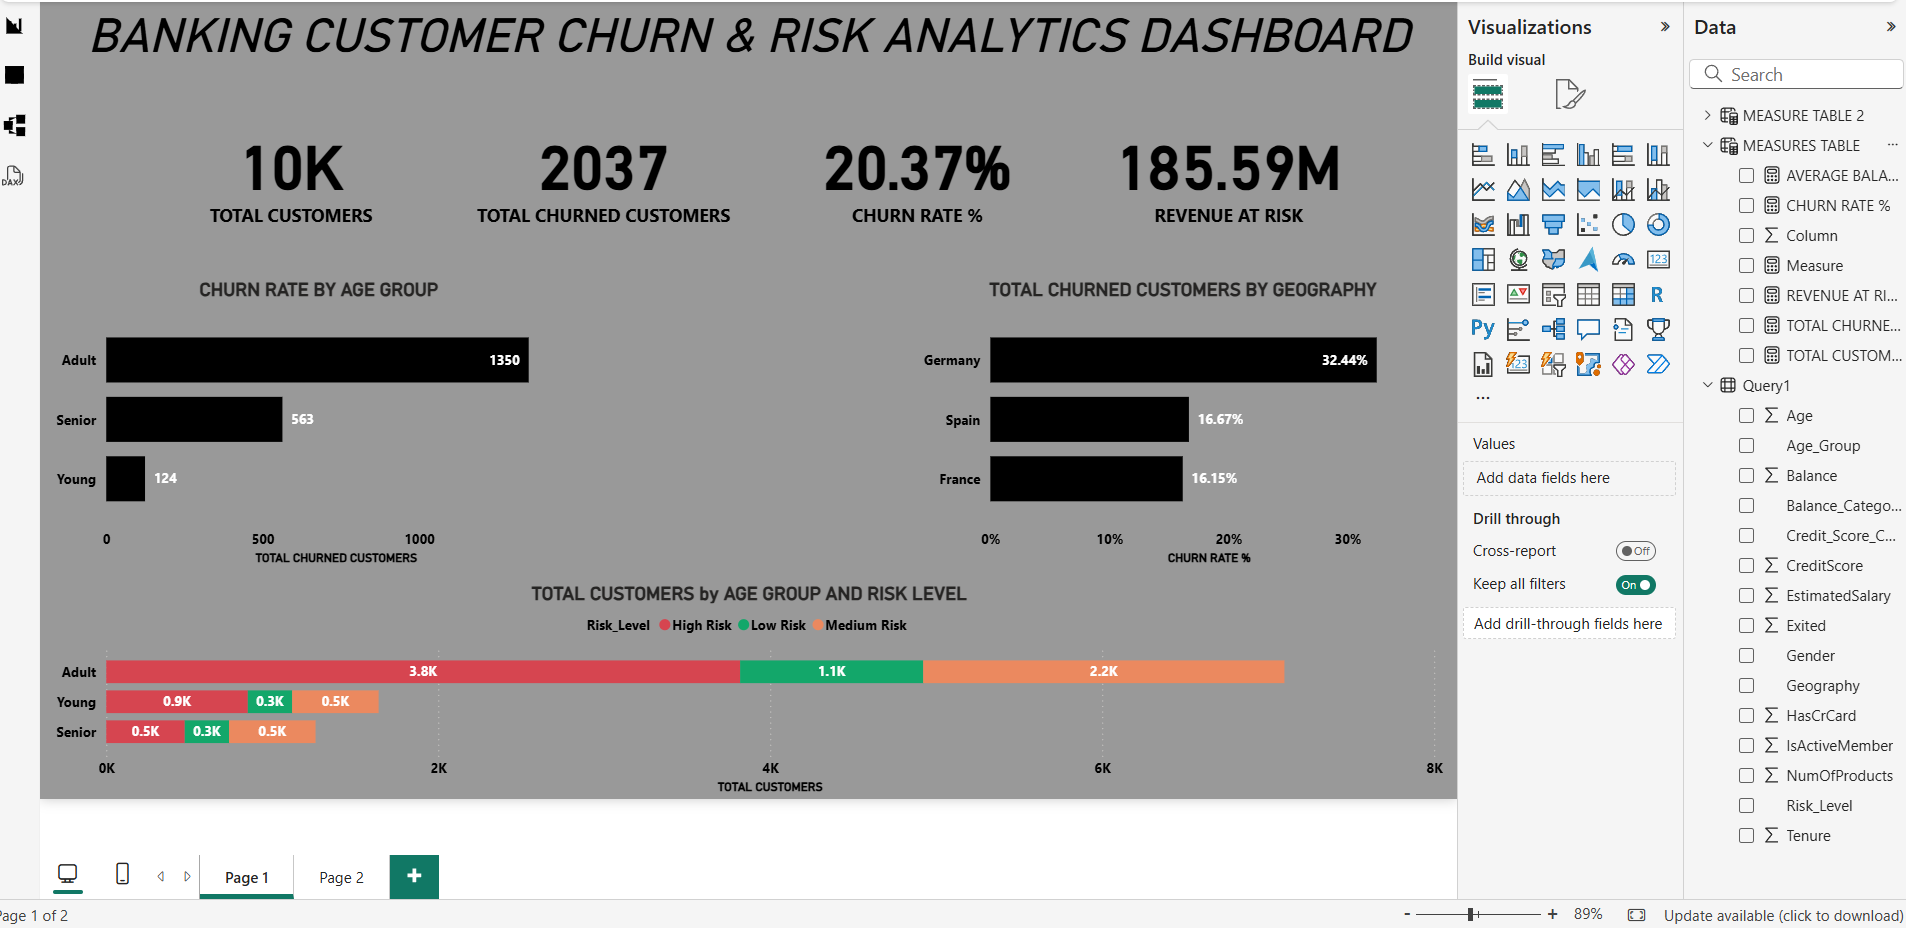

What the dashboard file says about the page in this screenshot:
{"tool":"powerbi","page":{"name":"Page 1","canvas":[1280,720],"ordinal":0},"visuals":[{"type":"textbox","box":[0,0,1280.5,58.7],"z":0},{"type":"card","fields":{"Values":["MEASURES TABLE.TOTAL CUSTOMERS"]},"box":[96,58.7,262,190.8],"z":1000},{"type":"card","fields":{"Values":["MEASURES TABLE.TOTAL CHURNED CUSTOMERS"]},"box":[378.3,58.7,262,190.8],"z":2000},{"type":"card","title":"PERCENTAGE OF CHURN","fields":{"Values":["MEASURES TABLE.CHURN PERCENTAGE %"]},"box":[661.7,58.7,262,190.8],"z":3000},{"type":"card","fields":{"Values":["MEASURES TABLE.REVENUE AT RISK"]},"box":[942.8,58.7,262,190.8],"z":4000},{"type":"clusteredBarChart","title":"CHURN RATE BY AGE GROUP","fields":{"Category":["Query1.Age_Group"],"Y":["MEASURES TABLE.TOTAL CHURNED CUSTOMERS"]},"box":[9,249.5,485.5,264.2],"z":5000},{"type":"clusteredBarChart","title":"TOTAL CHURNED CUSTOMERS BY GEOGRAPHY","fields":{"Category":["Query1.Geography"],"Y":["MEASURES TABLE.CHURN PERCENTAGE %"]},"box":[792.7,249.5,479.9,264.2],"z":6000},{"type":"barChart","title":"TOTAL CUSTOMERS by AGE GROUP AND RISK LEVEL","fields":{"Category":["Query1.Age_Group"],"Y":["MEASURES TABLE.TOTAL CUSTOMERS"],"Series":["Query1.Risk_Level"]},"box":[9,523.9,1263.5,196.5],"z":7000}]}

Visuals, with their boxes on the page's 1280x720 design canvas (x1, y1, x2, y2). These are canvas units, not pixel positions in the 1906x928 screenshot, which may show the page scaled, cropped or inside an application window:
textbox: region(0, 0, 1280, 59)
card - MEASURES TABLE.TOTAL CUSTOMERS: region(96, 59, 358, 250)
card - MEASURES TABLE.TOTAL CHURNED CUSTOMERS: region(378, 59, 640, 250)
"PERCENTAGE OF CHURN" card: region(662, 59, 924, 250)
card - MEASURES TABLE.REVENUE AT RISK: region(943, 59, 1205, 250)
"CHURN RATE BY AGE GROUP" clusteredBarChart: region(9, 250, 494, 514)
"TOTAL CHURNED CUSTOMERS BY GEOGRAPHY" clusteredBarChart: region(793, 250, 1273, 514)
"TOTAL CUSTOMERS by AGE GROUP AND RISK LEVEL" barChart: region(9, 524, 1272, 720)
